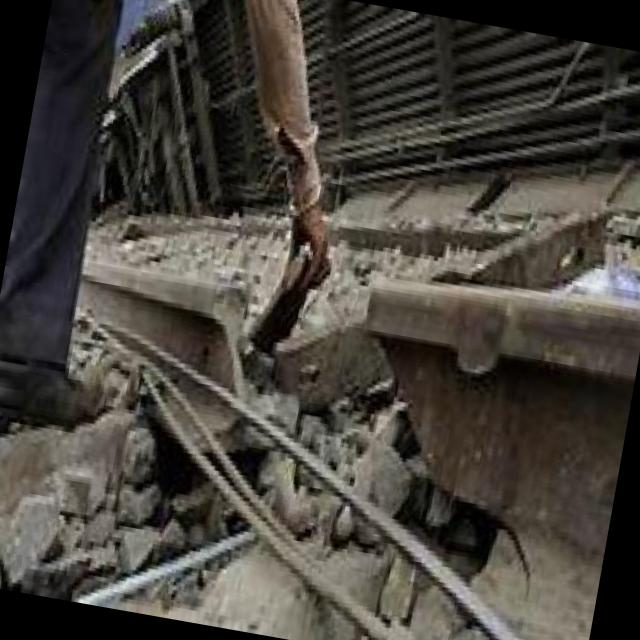defective: (45, 161, 640, 616)
